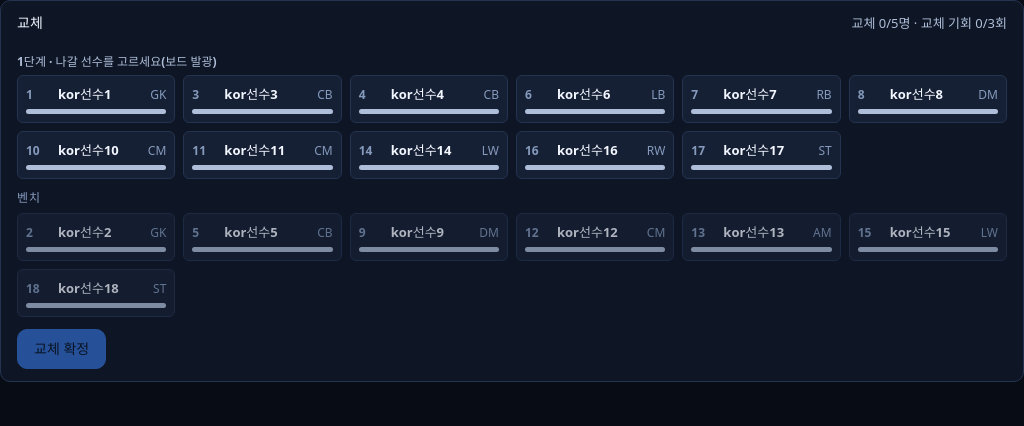
교체 패널 — 차단 사유 고지 › 나갈 선수를 고르기 전 벤치 카드를 누르면 순서를 알려 준다
Click the 12th button with class "cs-card": (96, 237) [17, 213, 175, 261]
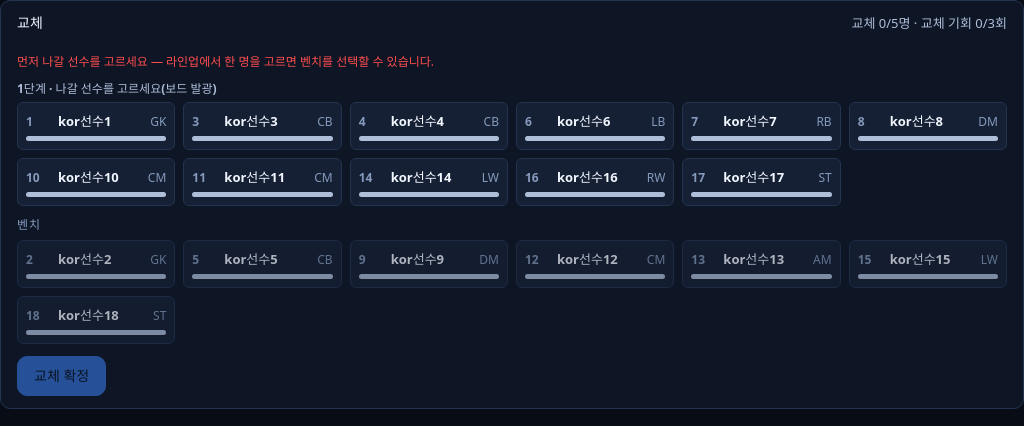
Expected: the message with class "cs-error" shows "먼저 나갈 선수를 고르세요", [17, 53, 434, 70]
